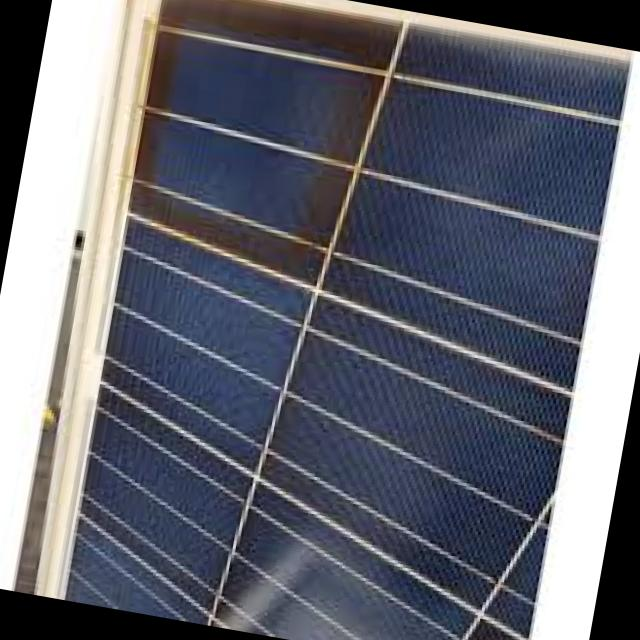faulty: (112, 0, 429, 313)
